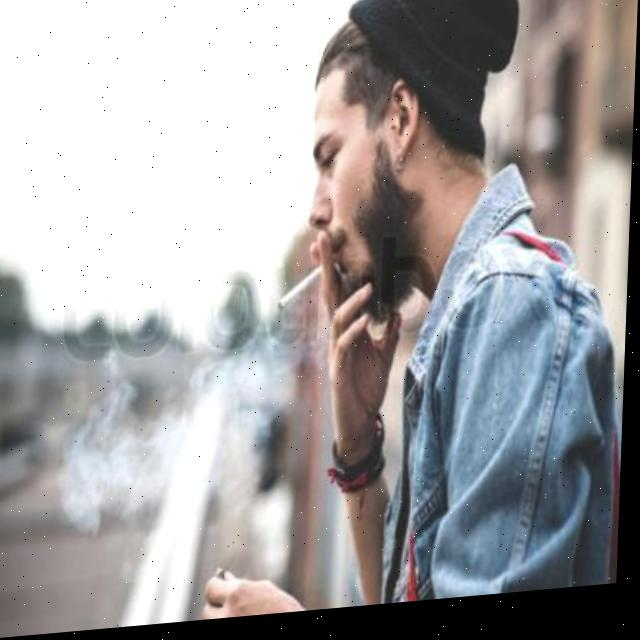cigarette: (281, 269, 328, 319)
